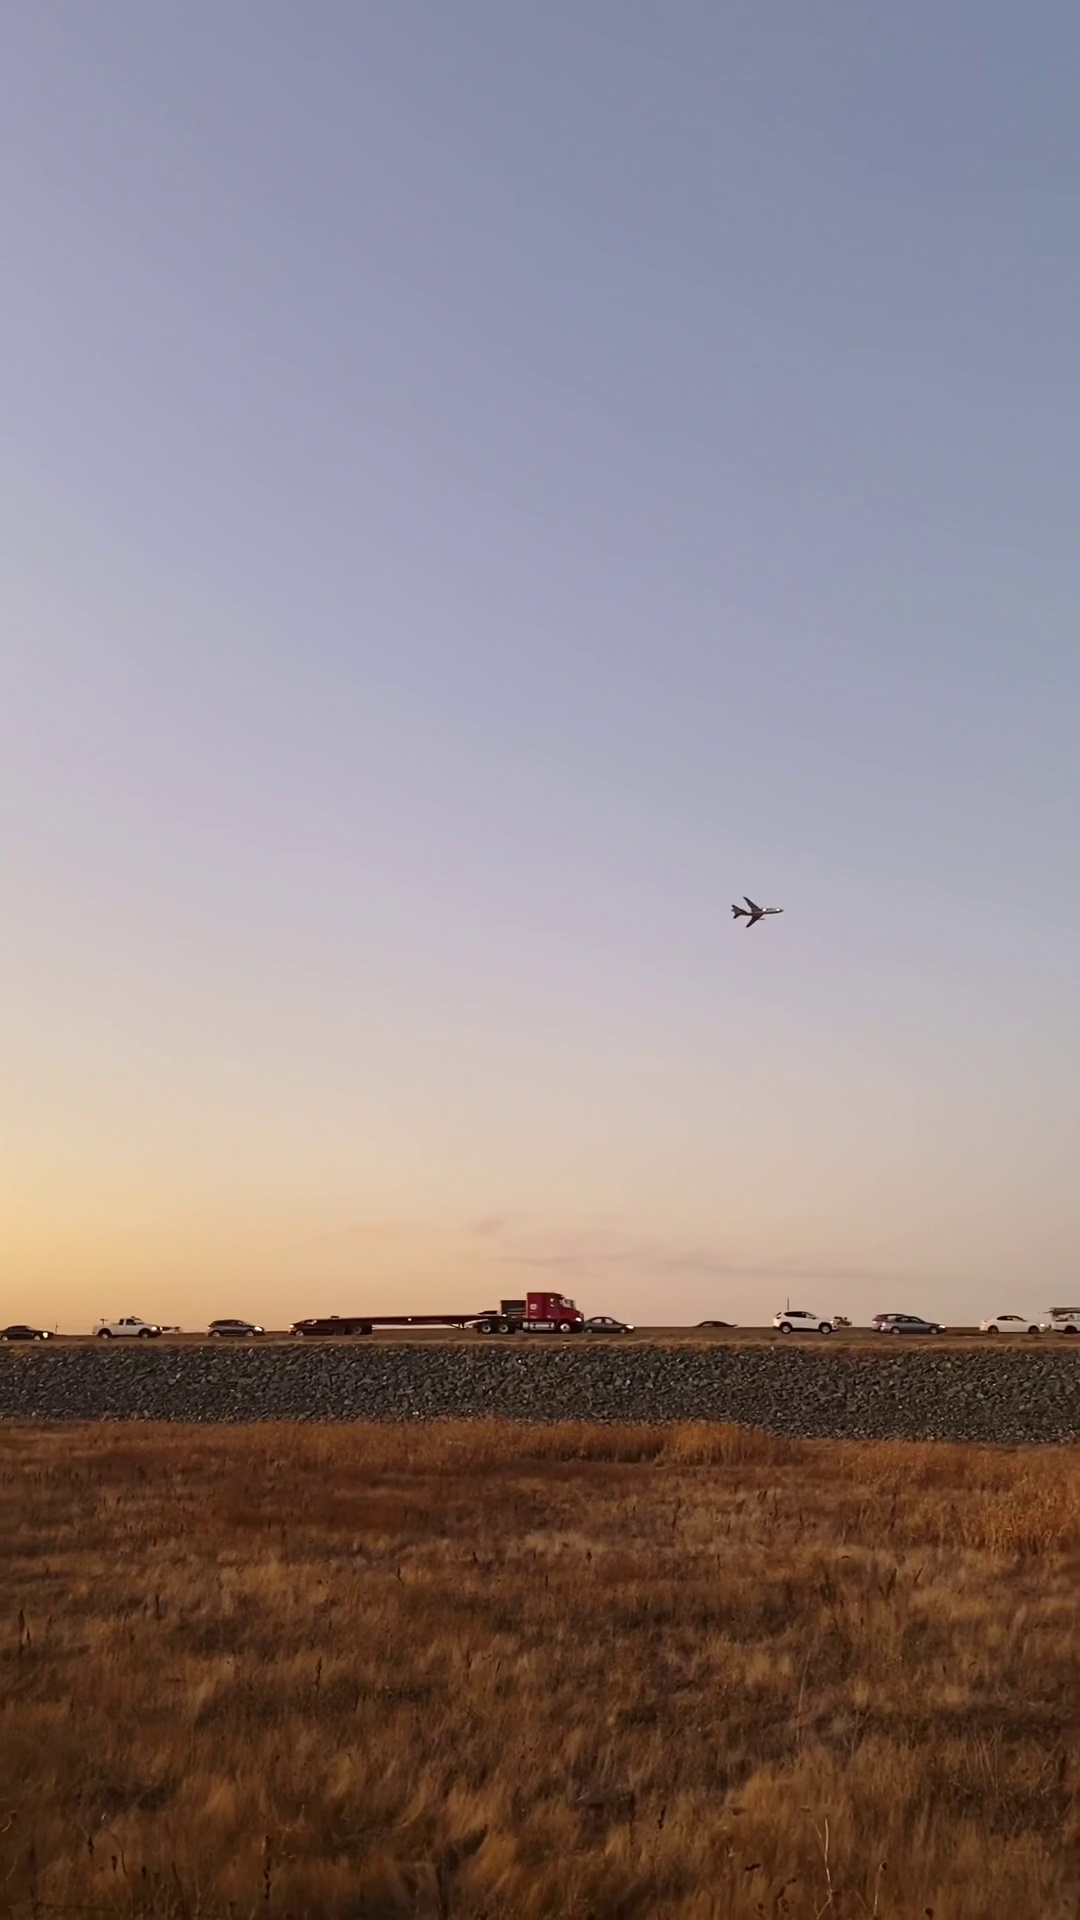plane: (731, 895, 785, 930)
